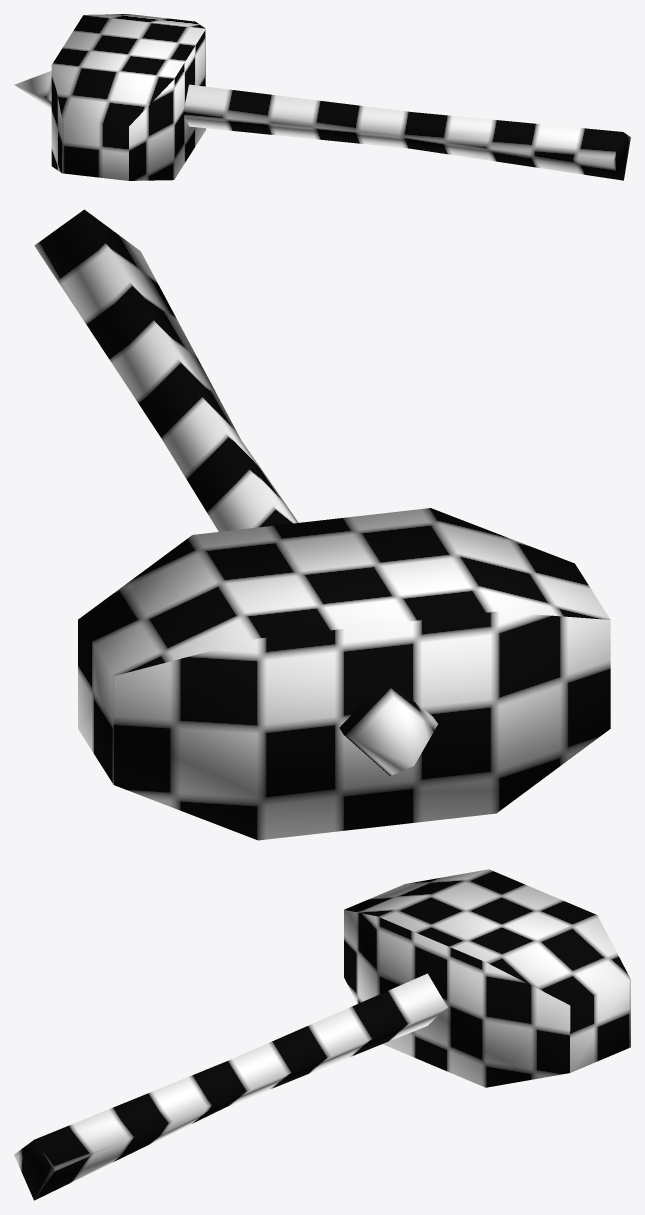
The model's file is initwehm4.dae.
3 views of the same model, one above another, from view 1: azimuth 30°, elevation 25°; view 2: azimuth 150°, elevation 25°; view 3: azimuth 270°, elevation 25° (orthographic). The views are drawn at different scales.
Visible parts, largest first — view 1: weapon; view 2: weapon; view 3: weapon.
Boxes of the visible parts, x1,y1,x2,y2 form: weapon: (14, 14, 630, 180); weapon: (34, 209, 610, 840); weapon: (14, 869, 630, 1200).
Bounding box in the file's own units: 2.01 × 2.02 × 0.4534.
Materials: 1 (1 with a texture image).
